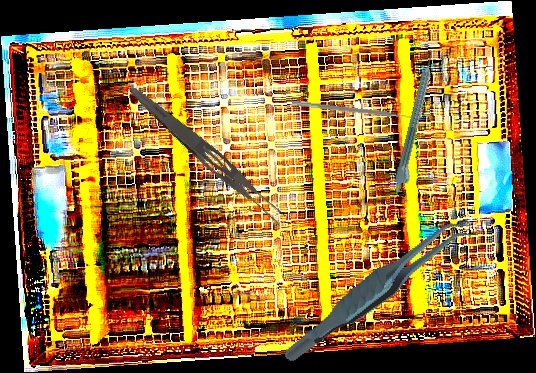Dressing Forceps: (124, 83, 290, 229)
Handpiece: (391, 49, 443, 195)
Spatula Surgical: (290, 100, 417, 124)
Tissue Forceps: (262, 214, 494, 365)
